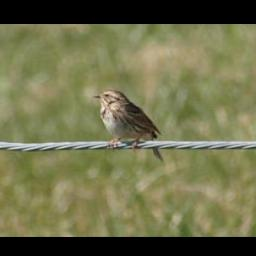Sparrow: (88, 87, 164, 163)
